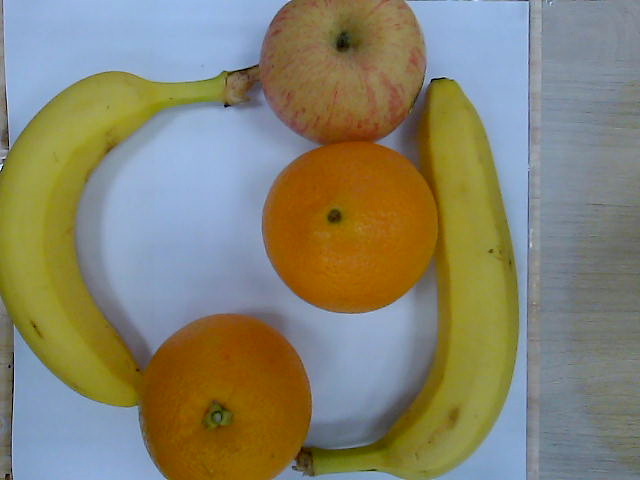fresh_apple: (263, 1, 429, 144)
fresh_banana: (1, 63, 260, 407), (379, 79, 519, 480)
fresh_orange: (263, 142, 437, 316), (139, 315, 314, 480)
